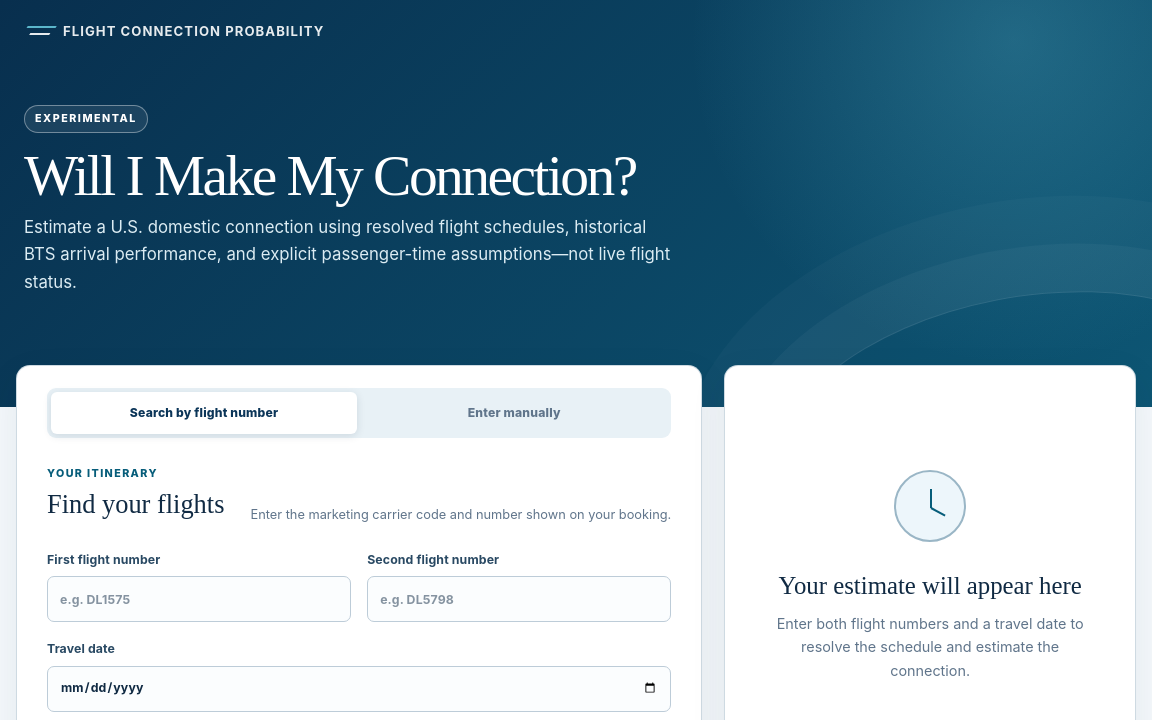
Scenario: ConnectionRiskCalculator › keeps the V1 request contract and shared result presentation
This screenshot has width=1152, height=720.
Click the tab "Enter manually" at x=514, y=413, box [361,392,667,434]
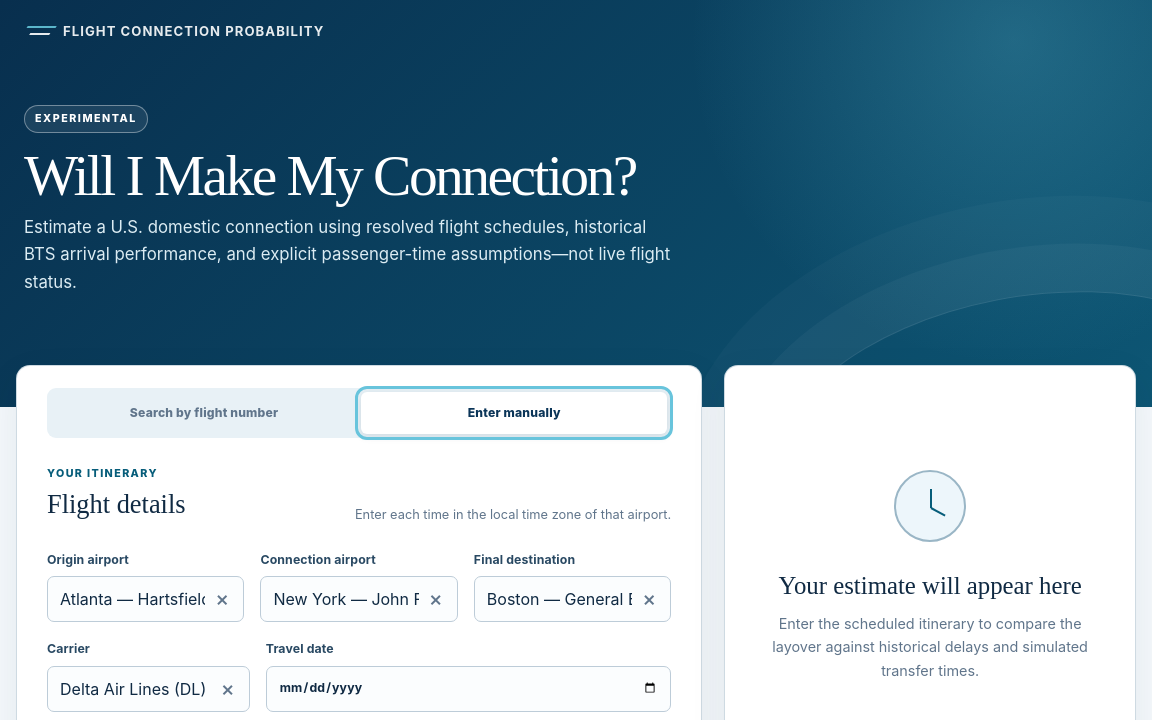
Type "2026-08-20" into the date field labelled "Travel date" at x=469, y=688, box [266,666,671,712]
(page scrolled)
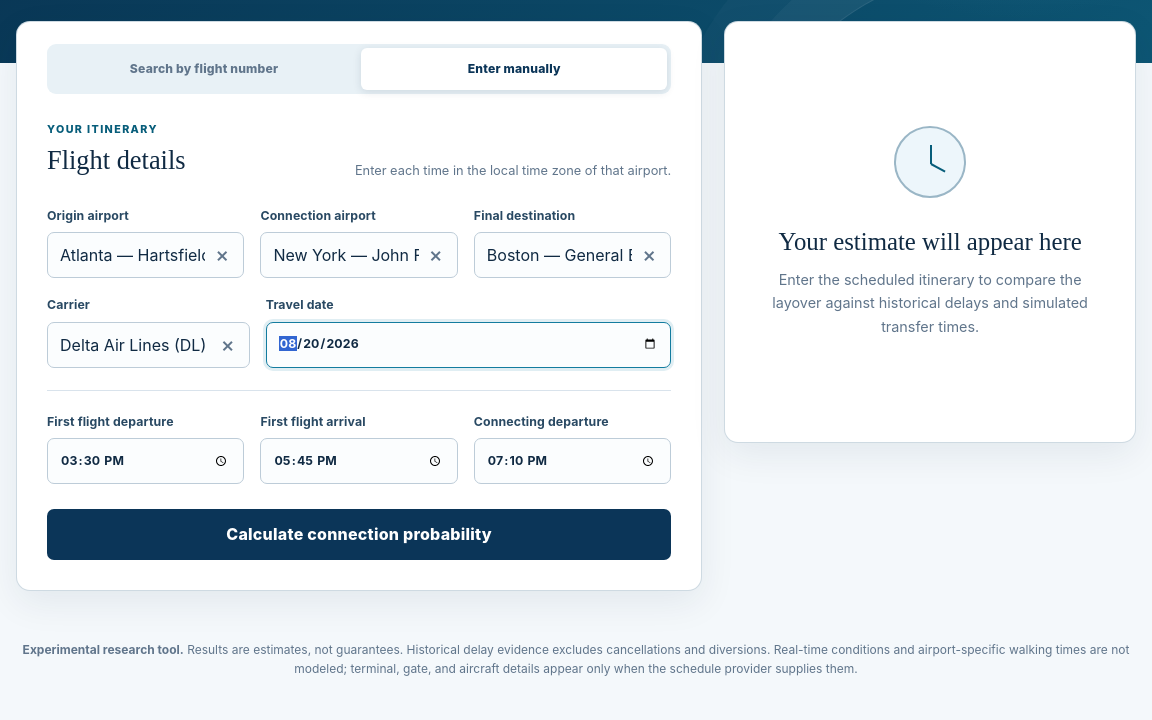
Click the button "Calculate connection probability" at x=359, y=534, box [47,509,671,560]
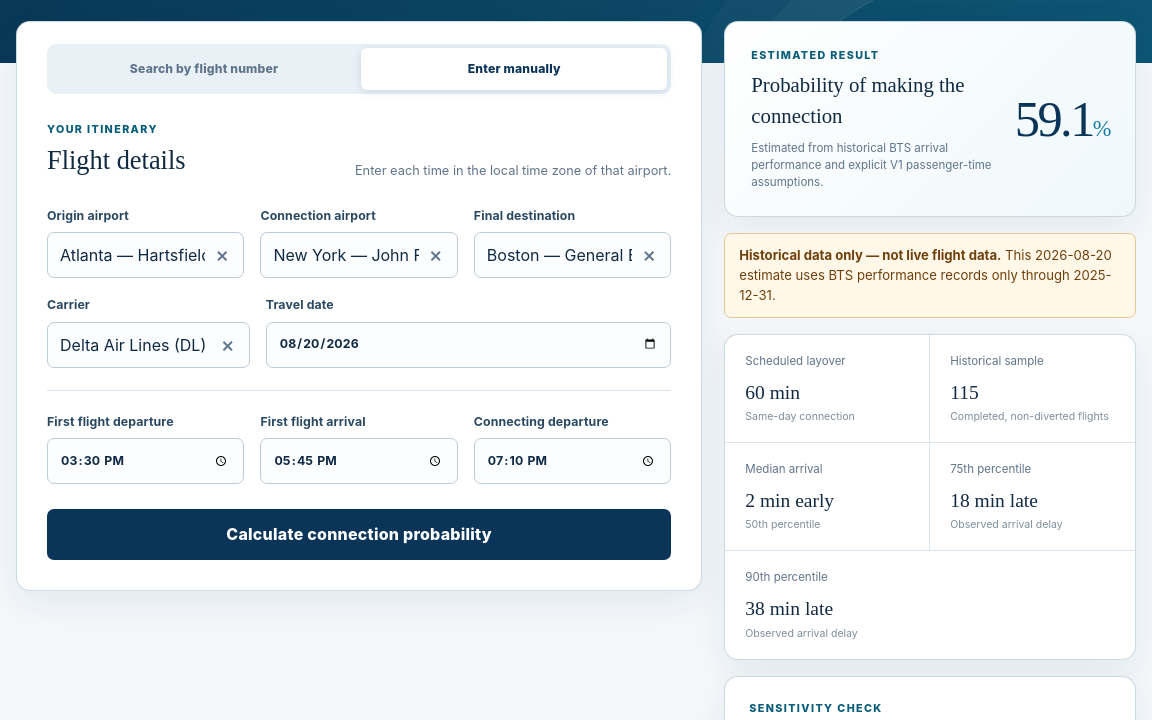
expect the text "59.1" is shown: met, box [1015,91,1093,147]
